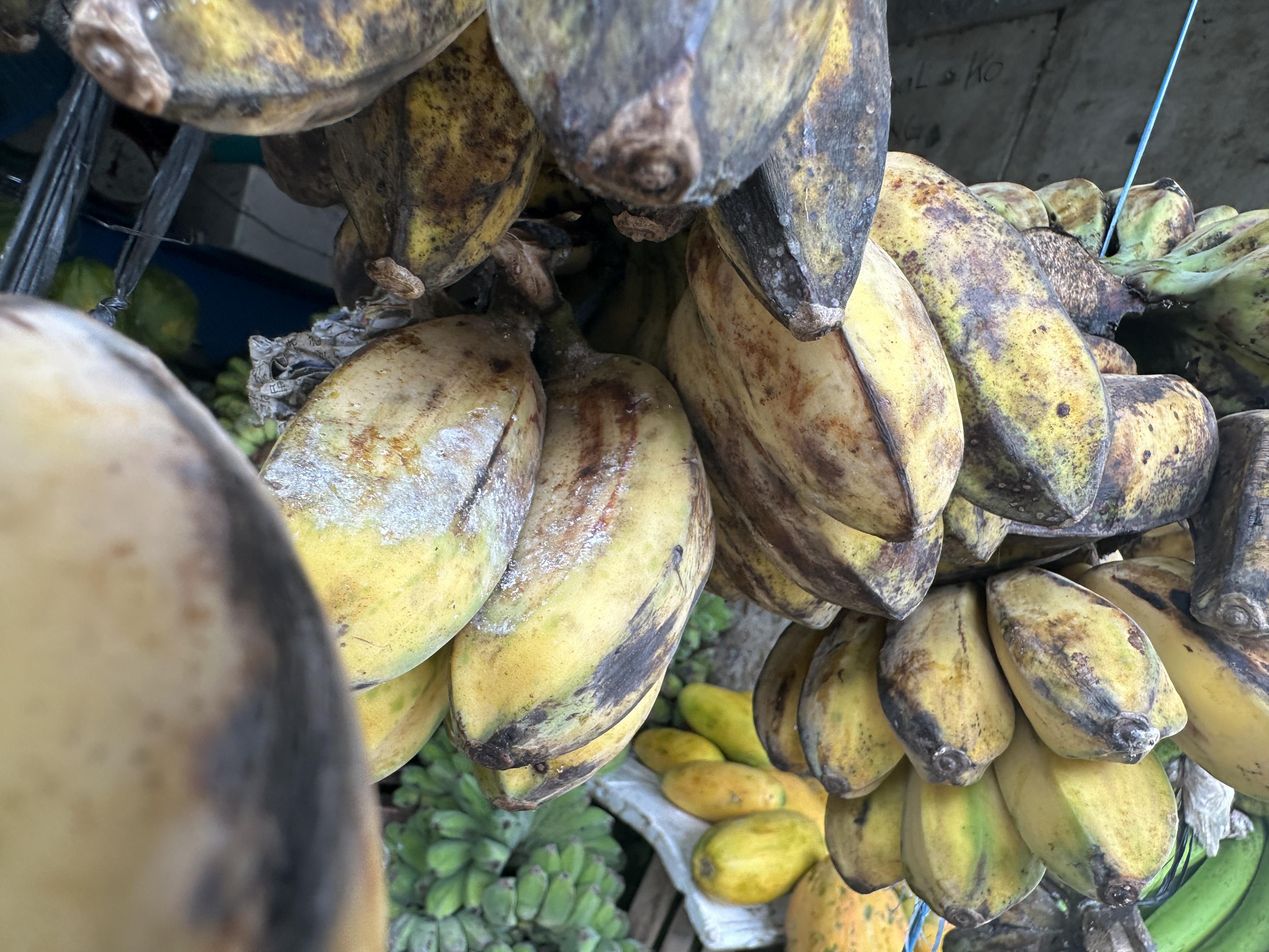ripe: (17, 0, 892, 345), (666, 151, 1114, 631)
underripe: (253, 315, 713, 809), (749, 554, 1269, 933), (967, 177, 1269, 416)
